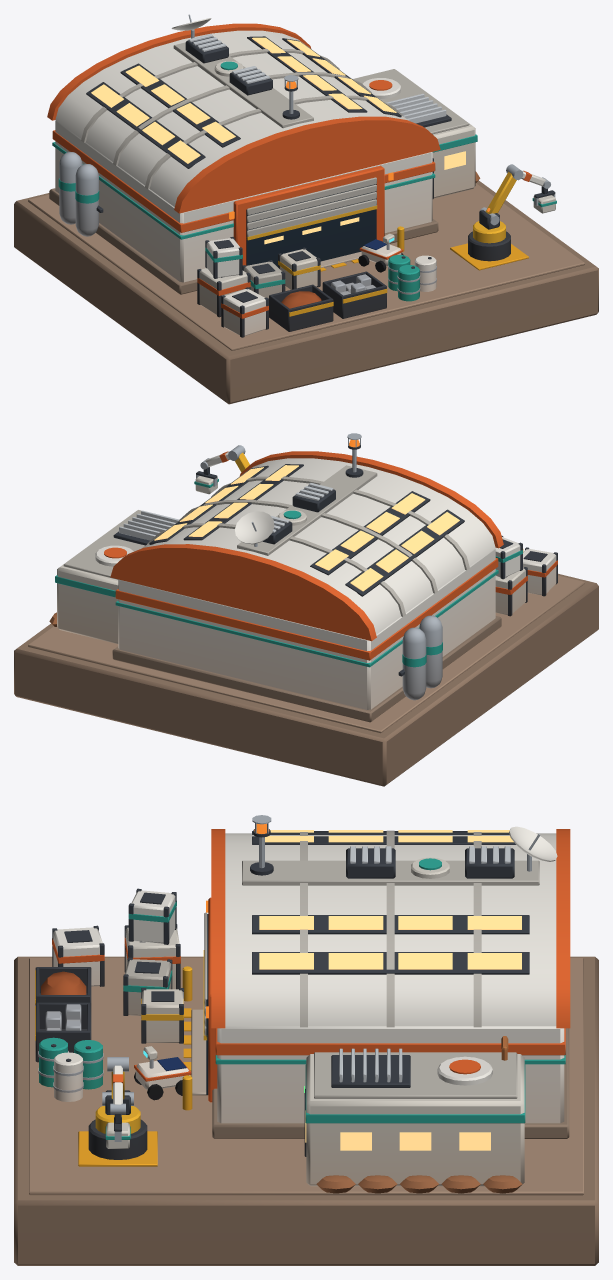
The model's file is storage_depot.glb.
3 views of the same model, one above another, from view 1: azimuth 30°, elevation 25°; view 2: azimuth 150°, elevation 25°; view 3: azimuth 270°, elevation 25° (orthographic). The views are drawn at different scales.
Visible parts, largest first — view 1: storage_depot, spin_arm; view 2: storage_depot, spin_arm; view 3: storage_depot, spin_arm.
Boxes of the visible parts, x1=… form: storage_depot: x1=14, y1=14, x2=598, y2=404; spin_arm: x1=473, y1=164, x2=556, y2=243; storage_depot: x1=14, y1=433, x2=598, y2=786; spin_arm: x1=194, y1=445, x2=249, y2=494; storage_depot: x1=14, y1=815, x2=598, y2=1265; spin_arm: x1=95, y1=1057, x2=140, y2=1148.
Bounding box in the file's own units: 5.9 × 3.38 × 5.9.
